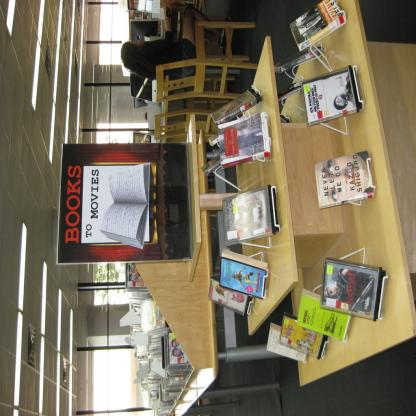book: (100, 161, 151, 249), (322, 258, 386, 323), (222, 185, 278, 246), (218, 110, 272, 168), (288, 0, 348, 51), (296, 288, 352, 340), (302, 76, 362, 122), (318, 154, 372, 200), (278, 312, 328, 360), (221, 248, 268, 299), (210, 82, 261, 124), (208, 273, 249, 316)
